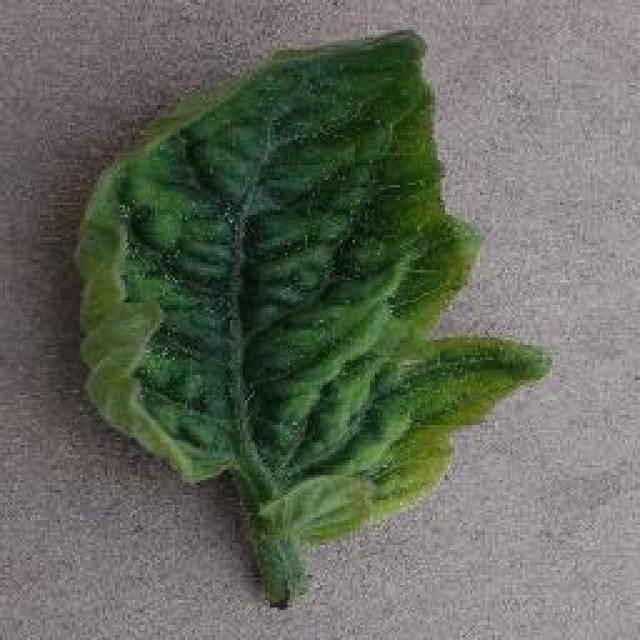Tomato yellow virus leaf: (70, 31, 545, 549)
